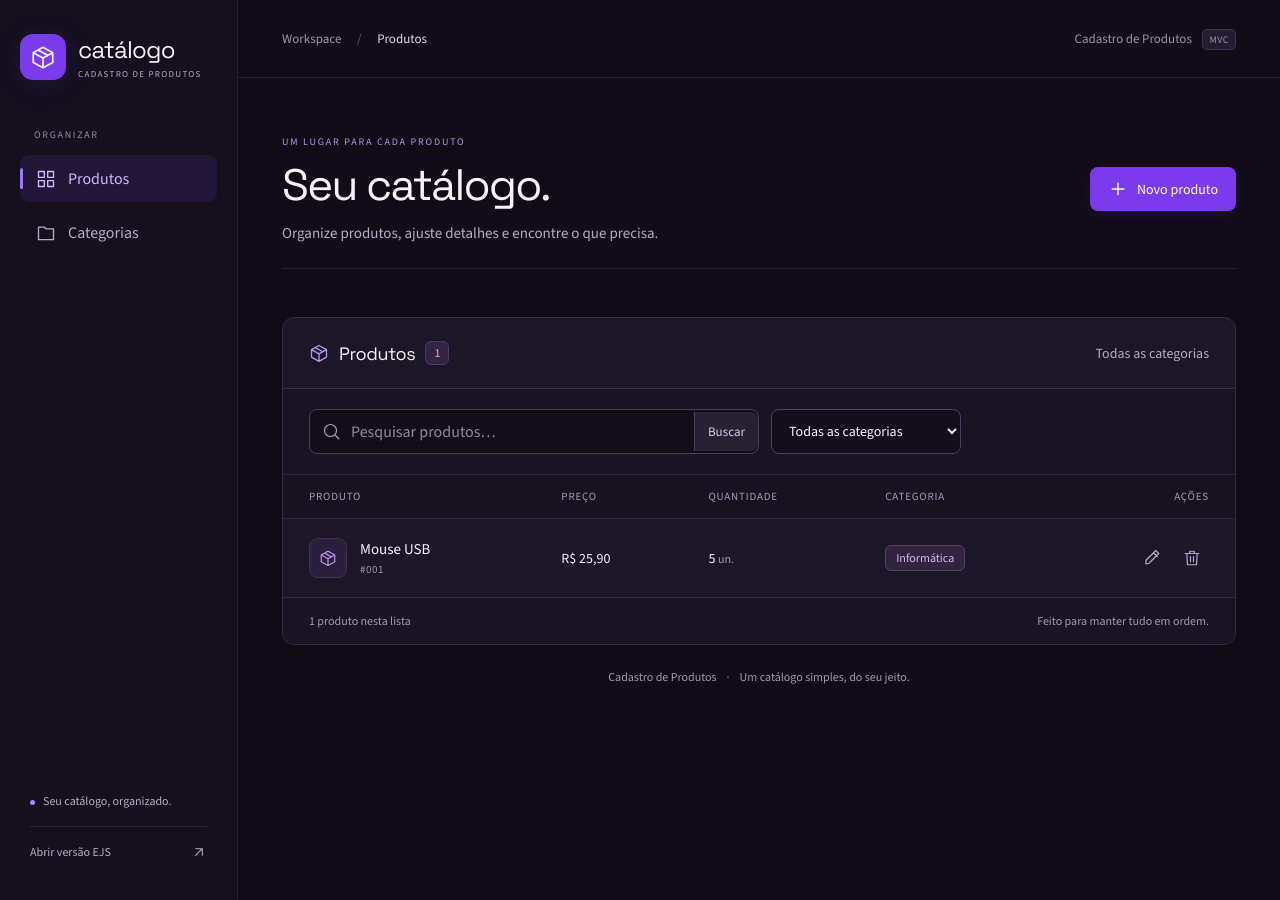
Test case: carrega produtos e combina pesquisa com categoria
Expected: the text "Mouse USB" is shown, [360,539,430,559]
In the search field named "Pesquisar por nome": (518, 432) [351,410,684,453], type "mouse"
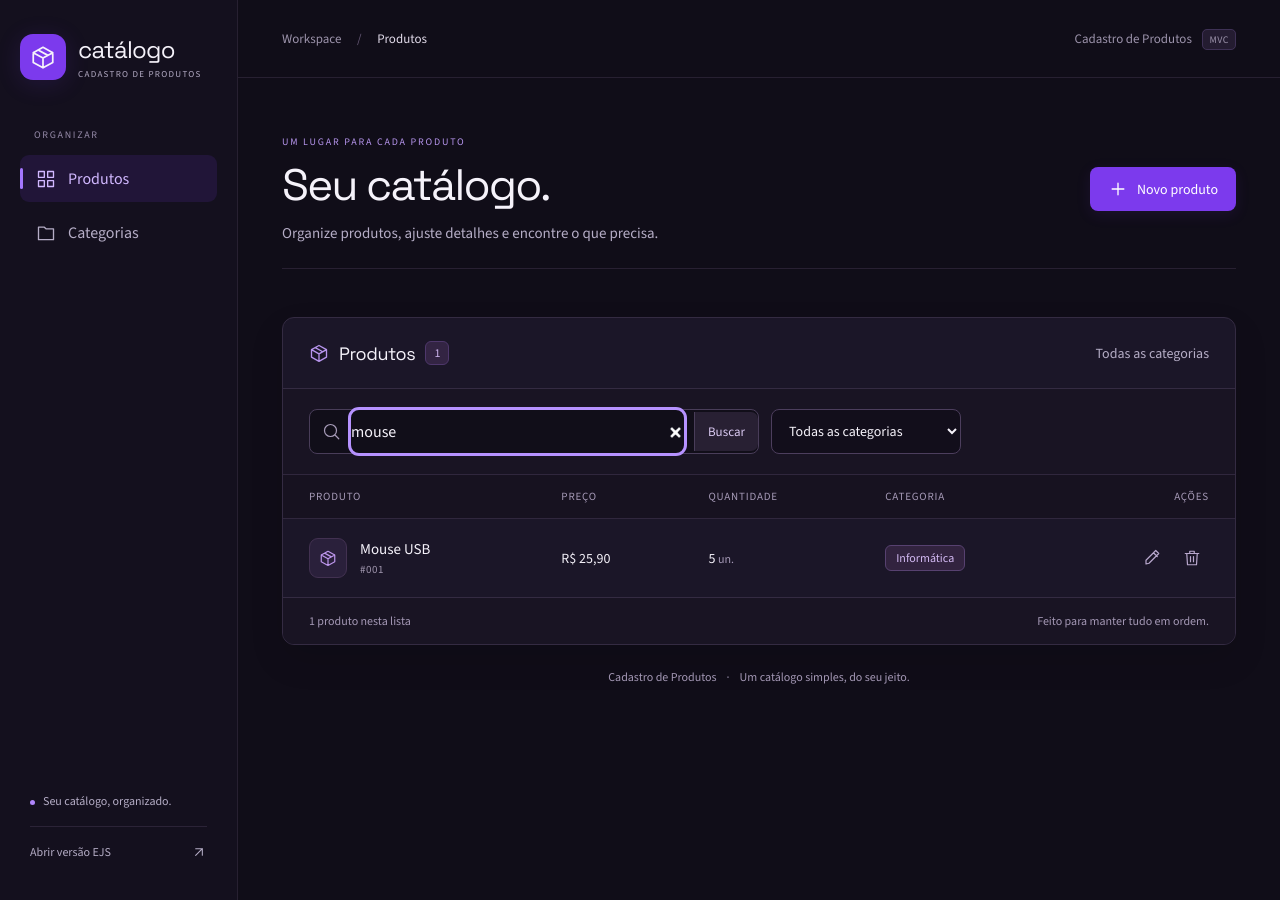
Click the button "Buscar": (726, 432) [694,412,758,451]
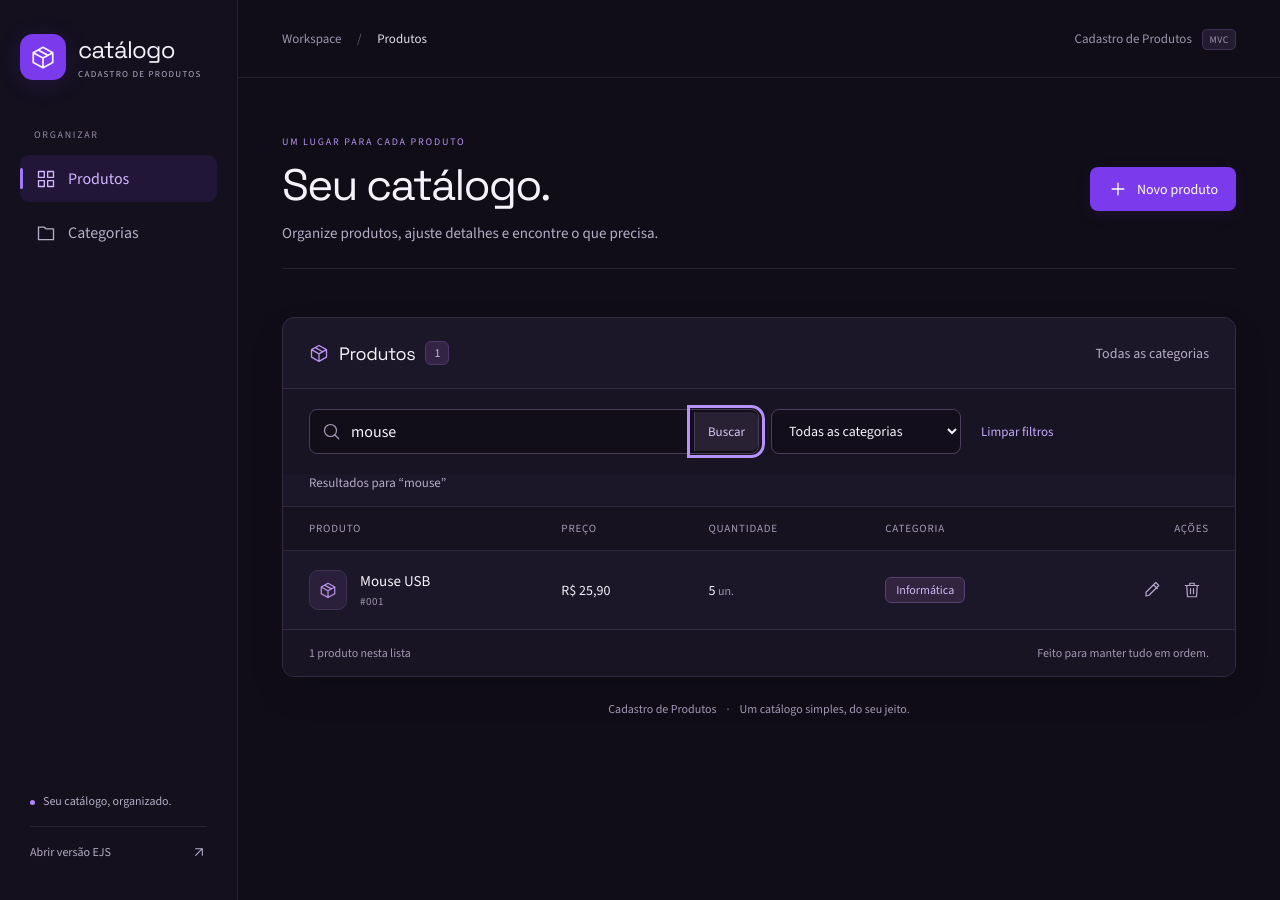
Select "Informática" in the dropdown named "Filtrar por categoria": (866, 432) [771,409,961,454]
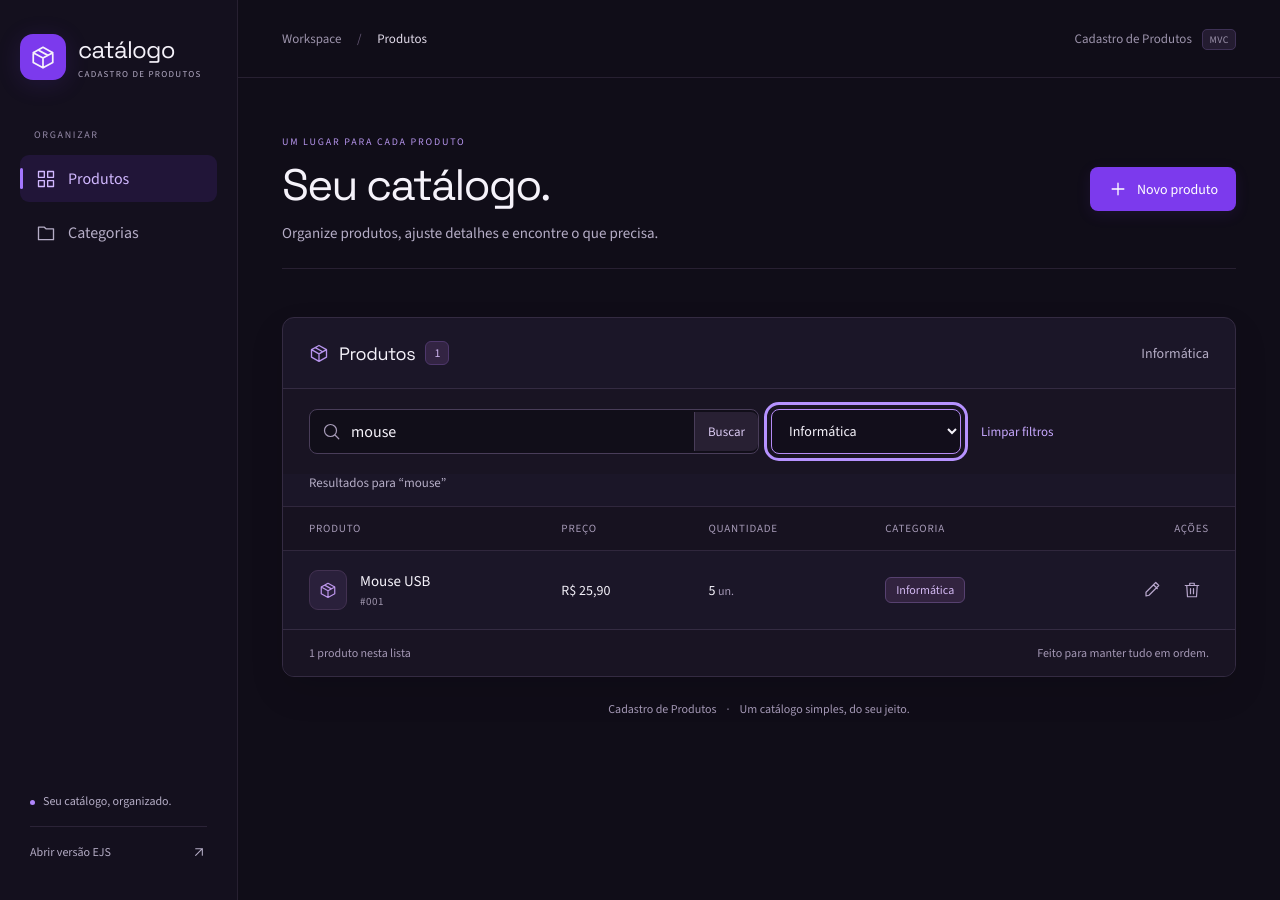
Click the button "Limpar filtros": (1017, 432) [973,415,1062,448]
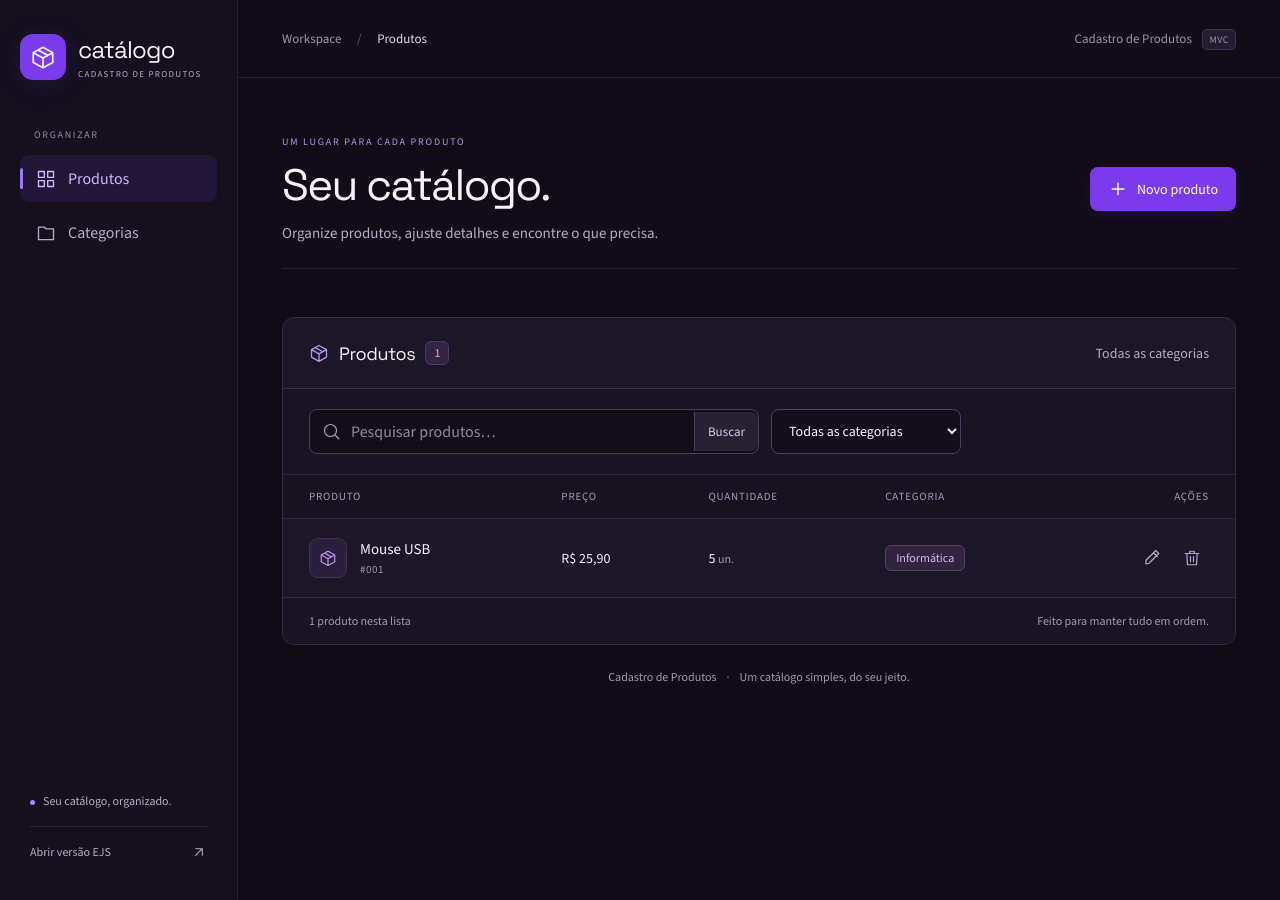
Expected: the search field named "Pesquisar por nome" is empty, [351,410,684,453]
